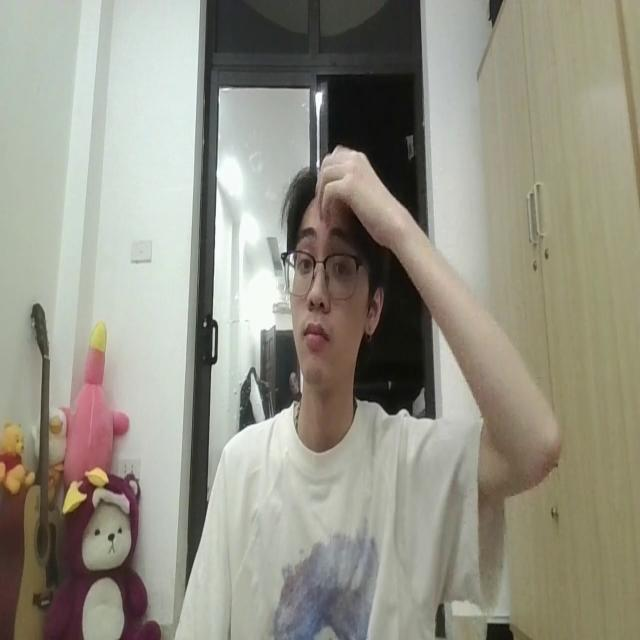student: (164, 144, 562, 640)
